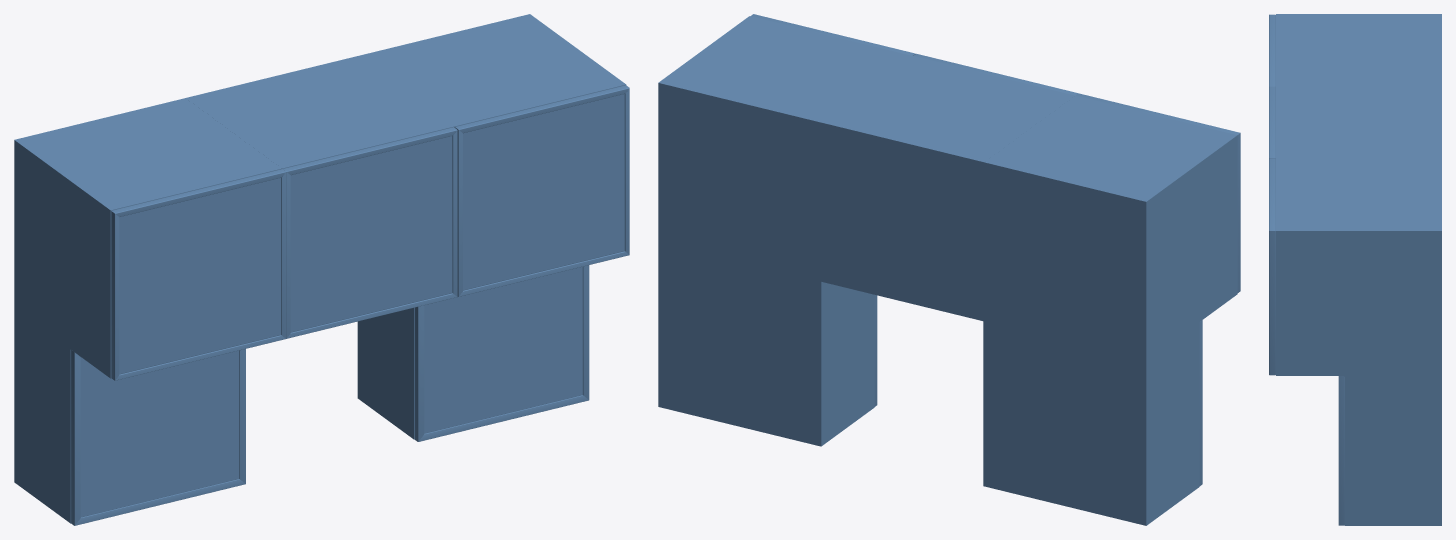
Rendered from c_ovenTop.gltf.
The picture shows the model from 3 angles, left to right: view 1: azimuth 30°, elevation 25°; view 2: azimuth 150°, elevation 25°; view 3: azimuth 270°, elevation 25°; orthographic projection. The views are drawn at different scales.
Visible parts, largest first — view 1: Box8222899 (×2), Rectangle069 (×2), Rectangle068 (×2), Box8222898, Rectangle032, Box8222917 (×2), Rectangle053 (×2), Rectangle052; view 2: Rectangle069 (×2), Box8222917 (×2), Rectangle032, Rectangle053, Rectangle068; view 3: Rectangle069 (×2), Box8222917, Rectangle032, Rectangle053 (×2), Rectangle068, Rectangle052.
Part boxes in pixels (x1,y1,x2,y2): Box8222899 (×2): (119,94,624,374); Rectangle069 (×2): (14,14,626,378); Rectangle068 (×2): (71,265,589,525); Box8222898: (290,136,452,332); Rectangle032: (186,56,453,168); Box8222917 (×2): (14,307,414,523); Rectangle053 (×2): (111,85,629,380); Rectangle052: (283,127,457,338); Rectangle069 (×2): (658,16,1237,360); Box8222917 (×2): (658,242,1199,525); Rectangle032: (821,56,1074,320); Rectangle053: (1076,93,1240,292); Rectangle068: (1199,320,1202,485); Rectangle069 (×2): (1276,14,1441,375); Box8222917: (1345,376,1441,525); Rectangle032: (1276,86,1441,158); Rectangle053 (×2): (1269,14,1275,375); Rectangle068: (1338,376,1344,525); Rectangle052: (1269,86,1275,158).
Size of the model in its own units: 1.8 by 1.14 by 0.6055.
